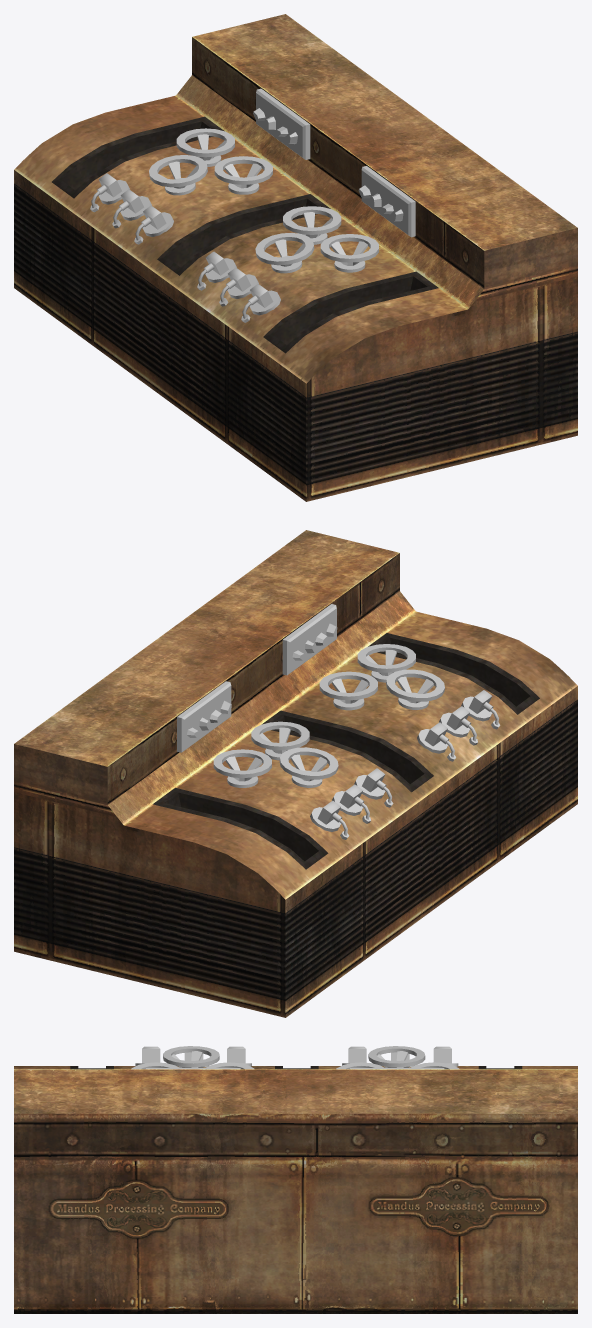
Rendered from engineroom_piston_controlpanel.DAE.
3 views of the same model, one above another, from view 1: azimuth 30°, elevation 25°; view 2: azimuth 150°, elevation 25°; view 3: azimuth 270°, elevation 25° (orthographic). The views are drawn at different scales.
Visible parts, largest first — view 1: Cylinder001, Object445; view 2: Cylinder001, Object445; view 3: Cylinder001, Object445.
Boxes of the visible parts, x1=… form: Cylinder001: x1=14, y1=14, x2=577, y2=501; Object445: x1=91, y1=88, x2=415, y2=318; Cylinder001: x1=14, y1=530, x2=577, y2=1017; Object445: x1=177, y1=604, x2=498, y2=835; Cylinder001: x1=14, y1=1066, x2=577, y2=1313; Object445: x1=131, y1=1046, x2=459, y2=1069.
Bounding box in the file's own units: 1.48 × 1.08 × 2.77.
